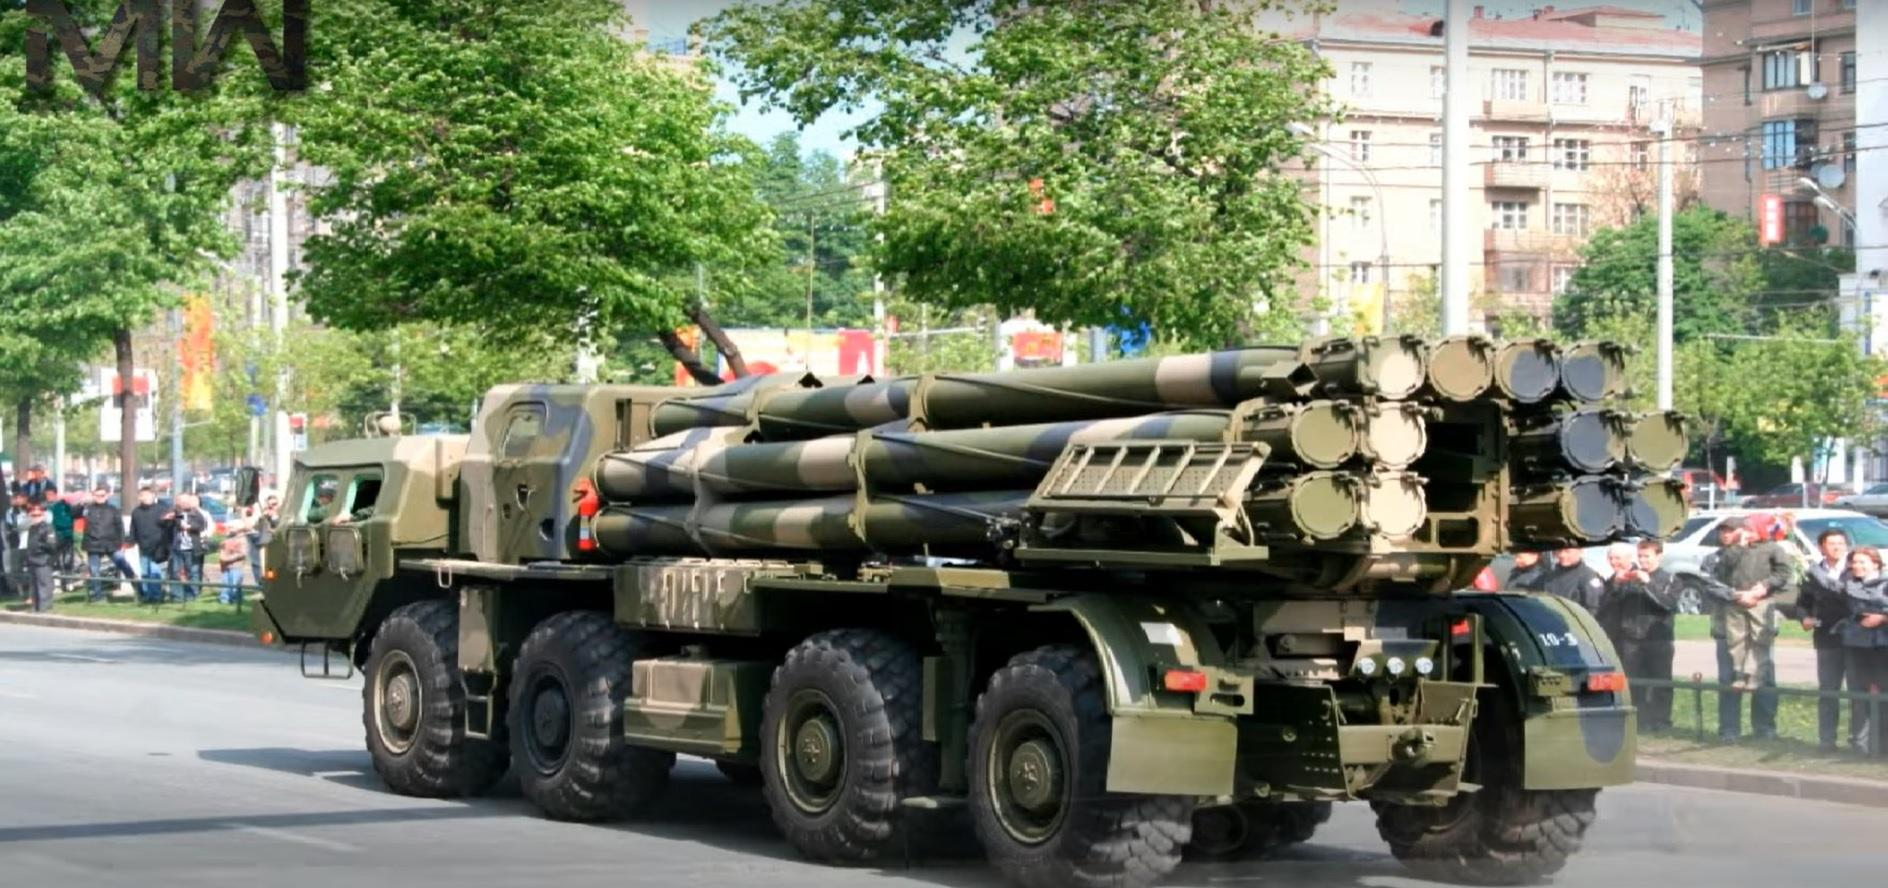MIL_SAM_TEL: (226, 333, 1692, 888)
